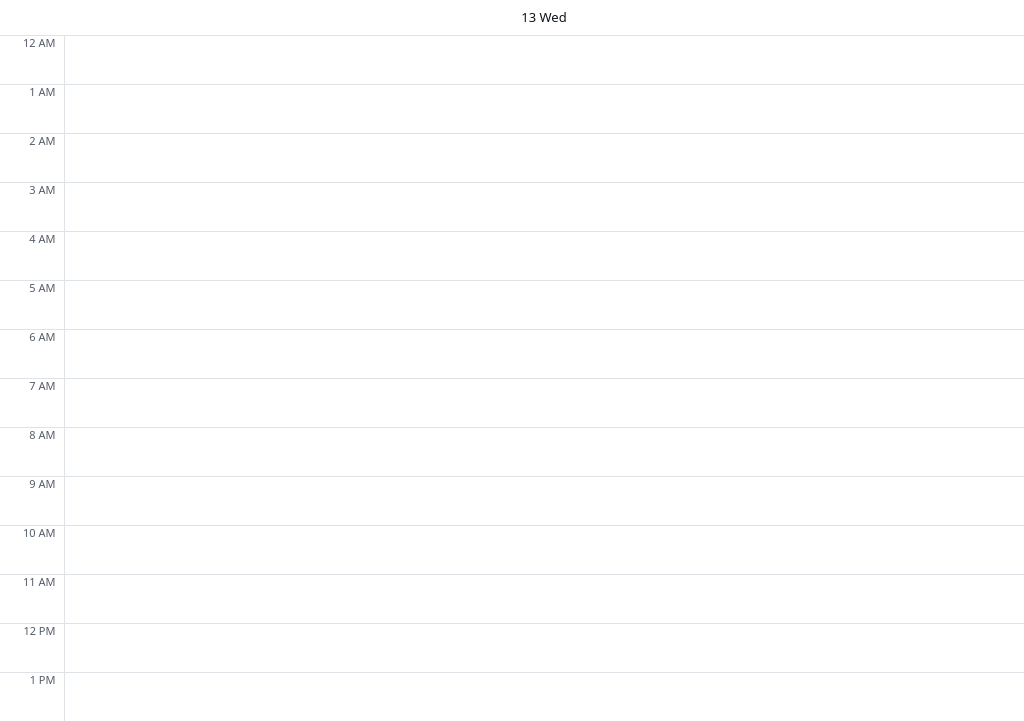
Test case: CalendarTimeGrid › clicking an empty slot with quickCreate opens the quick-create popover
What coordinates should you click on to do the following:
click the button named "Wednesday, May 13, 2026, 9 AM"
I would click on:
 (544, 501)
Its box is [64, 477, 1023, 525].
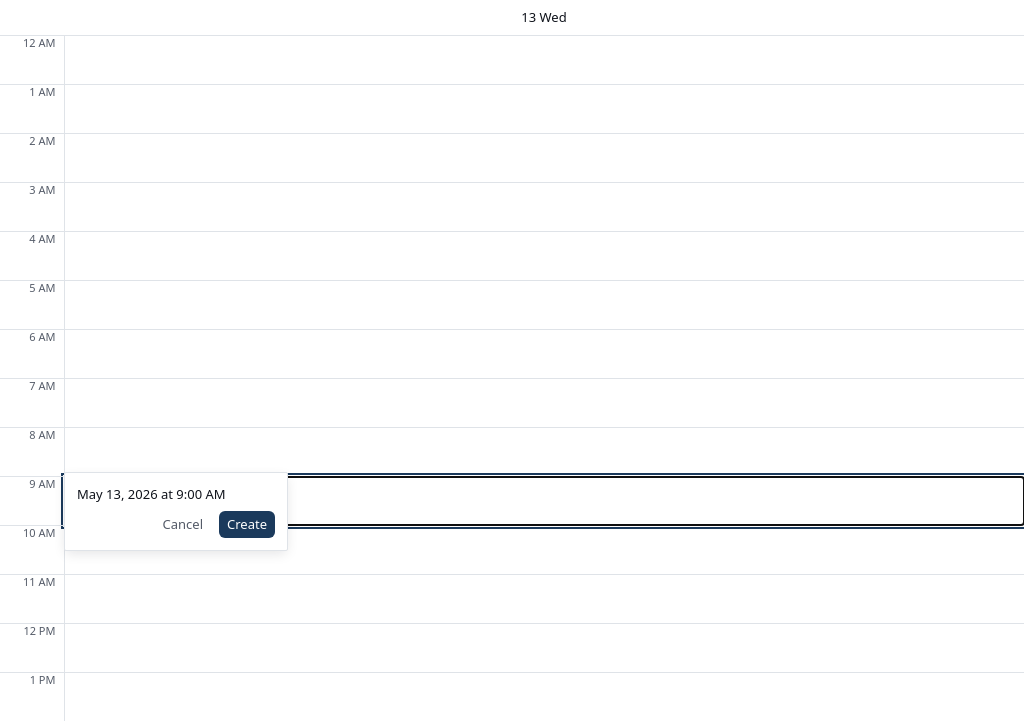
Now the dialog is shown, box [64, 472, 288, 551]
